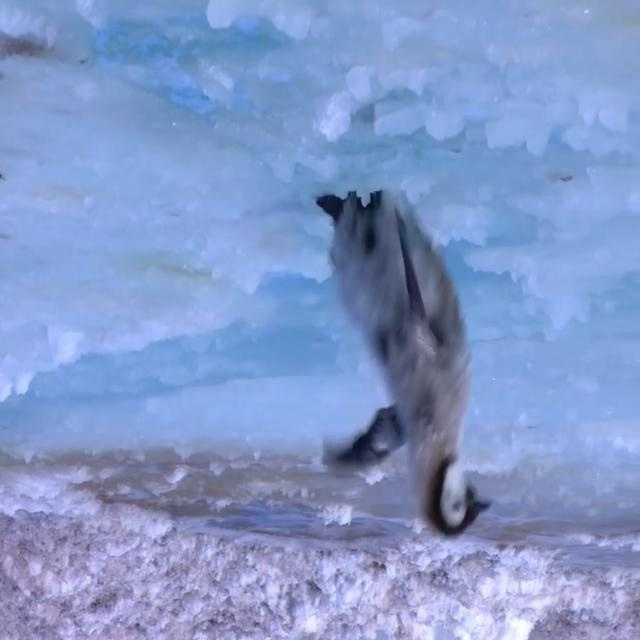penguin: (314, 188, 492, 539)
